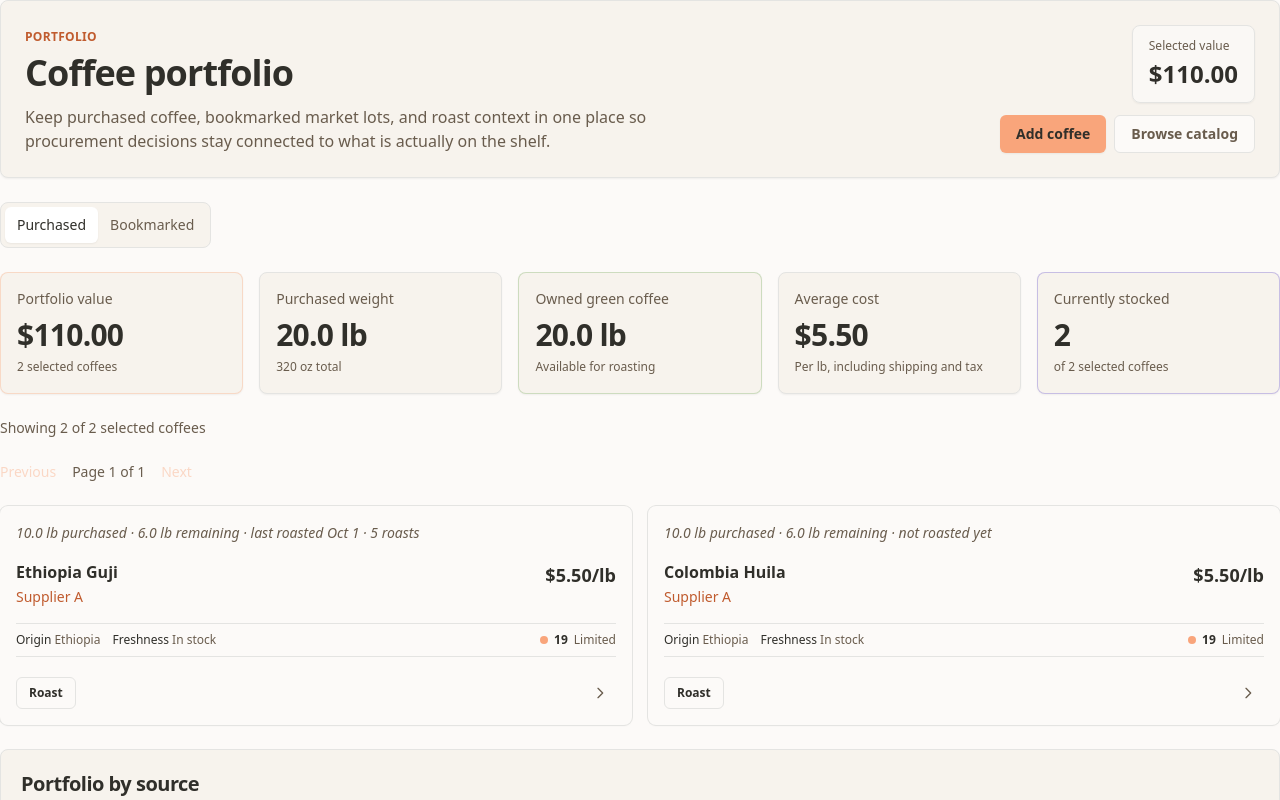
Test: /beans?coffee=&tab= round trip › writes the coffee when a card opens, the tab when it changes, and clears both on close
Click the button named "View details for Ethiopia Guji": (316,615) [0,506,632,725]
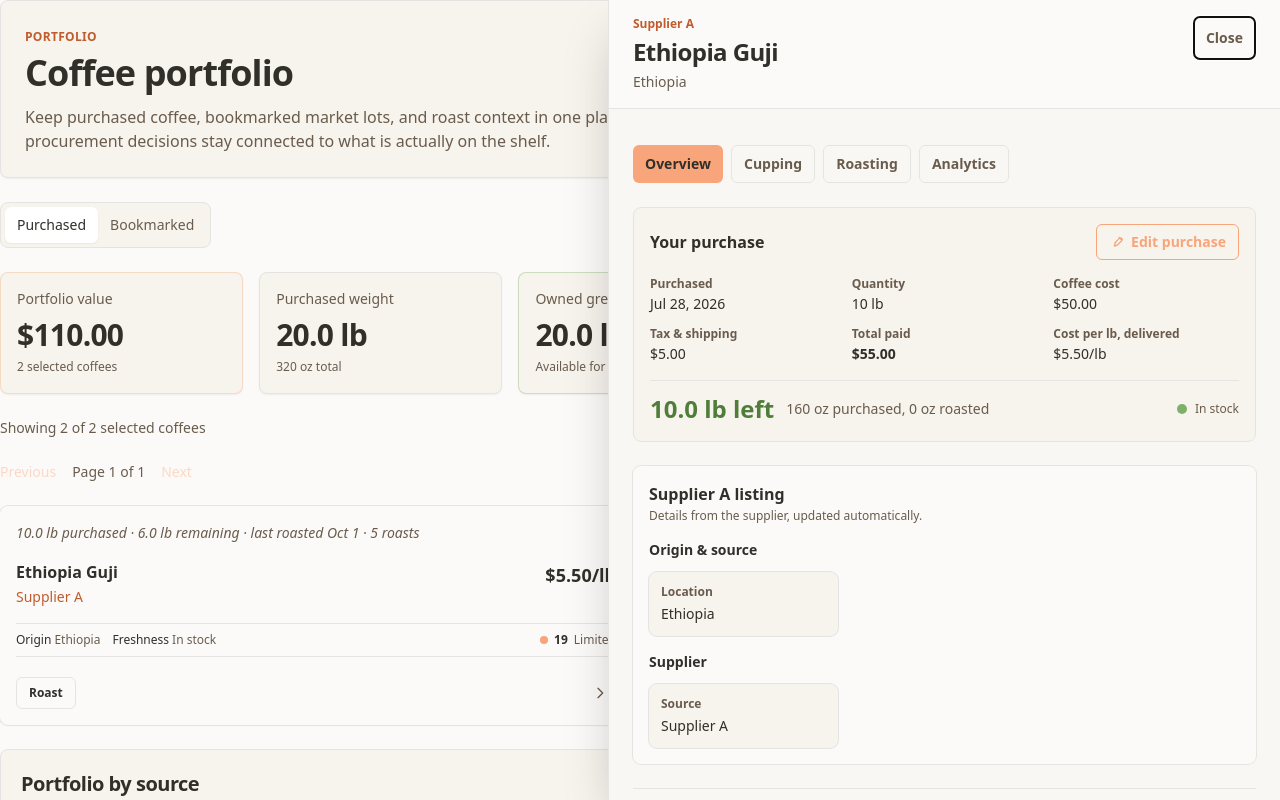
Expected: the dialog is shown, [608,0,1279,799]
Click the tab "Roasting": (867,164) [823,145,911,183]
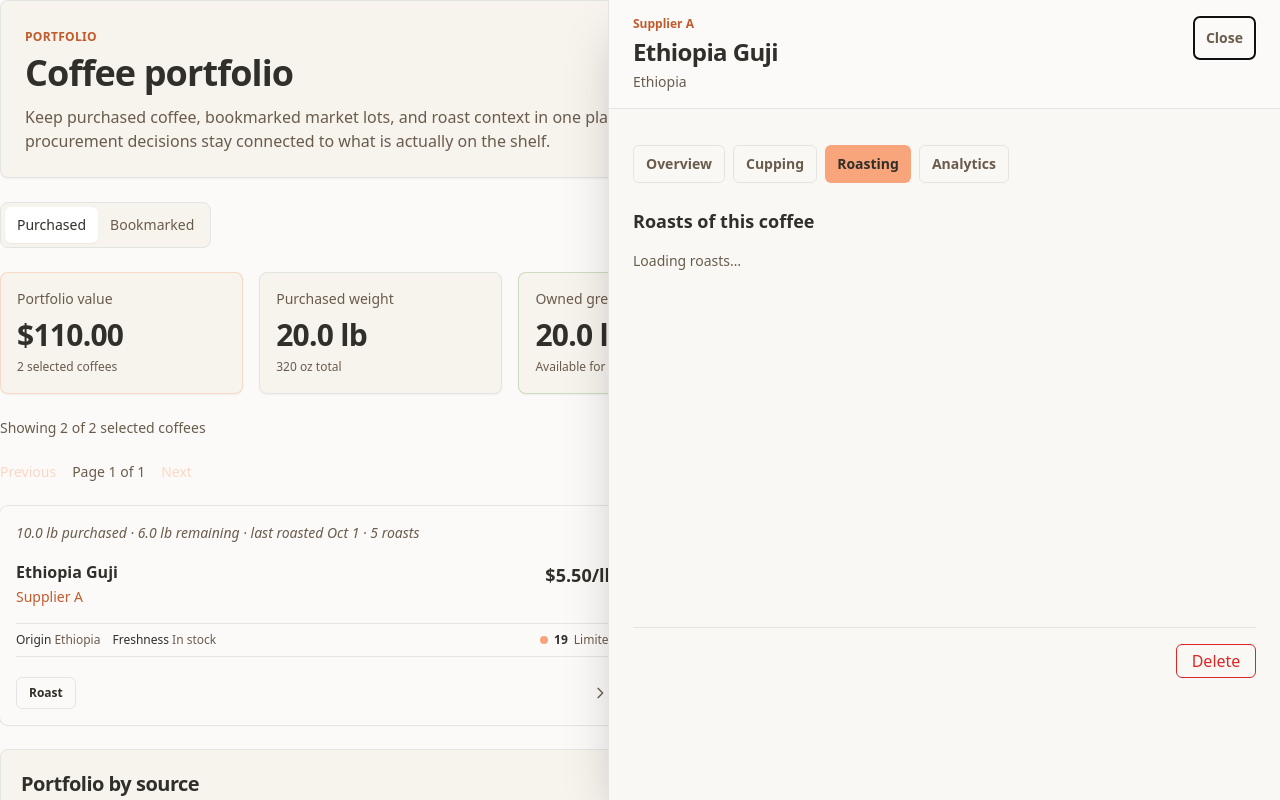
Click the tab "Overview": (679,164) [633,145,725,183]
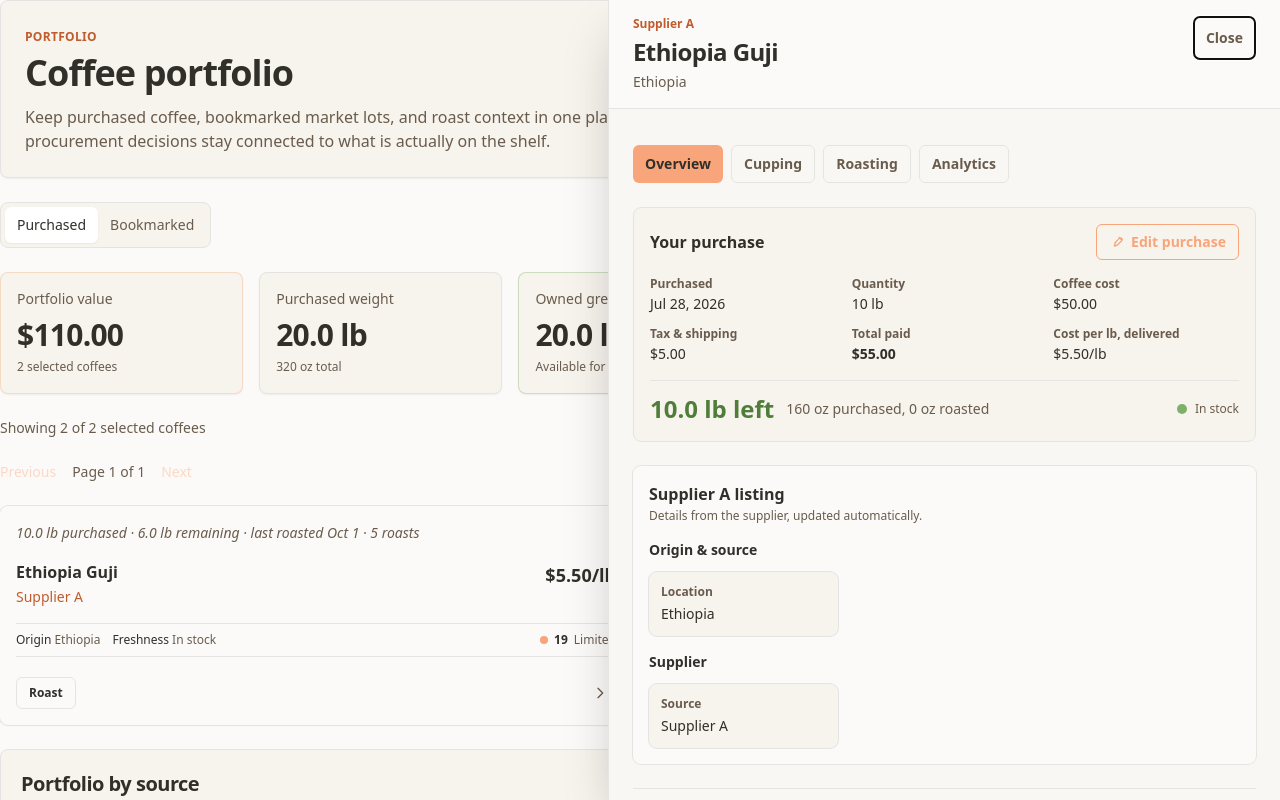
Click the button "Close": (1224,38) [1193,16,1256,60]
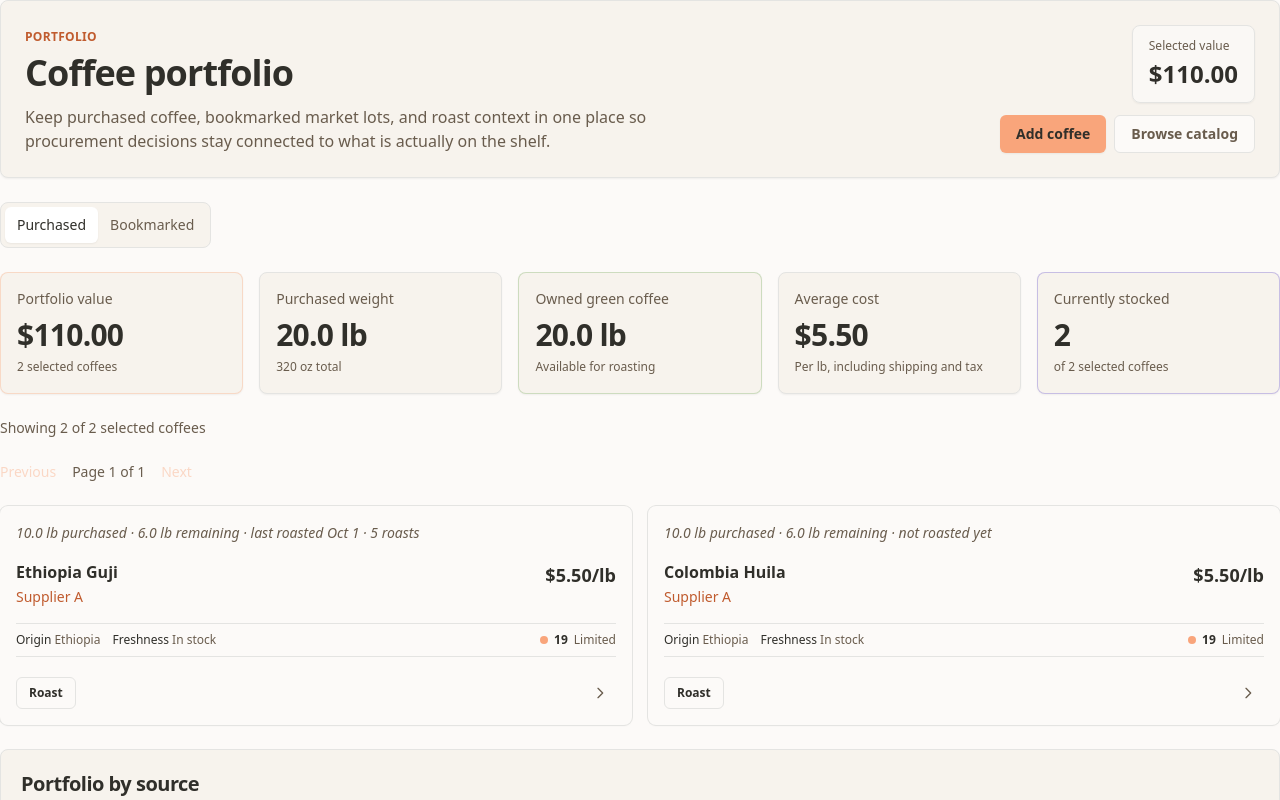
Expected: the dialog is gone
